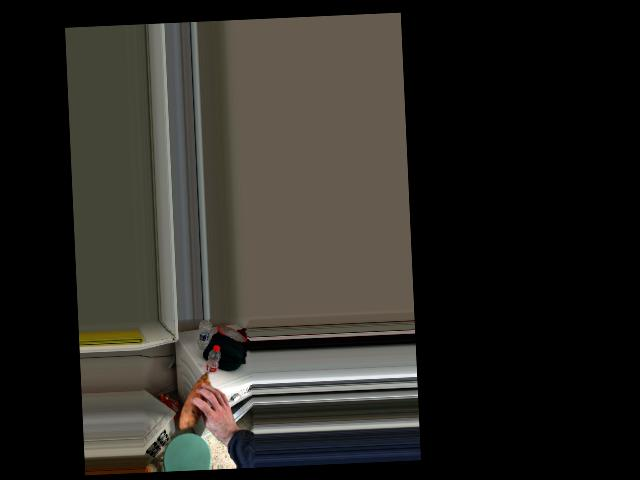sweet_potato: (178, 375, 221, 420)
